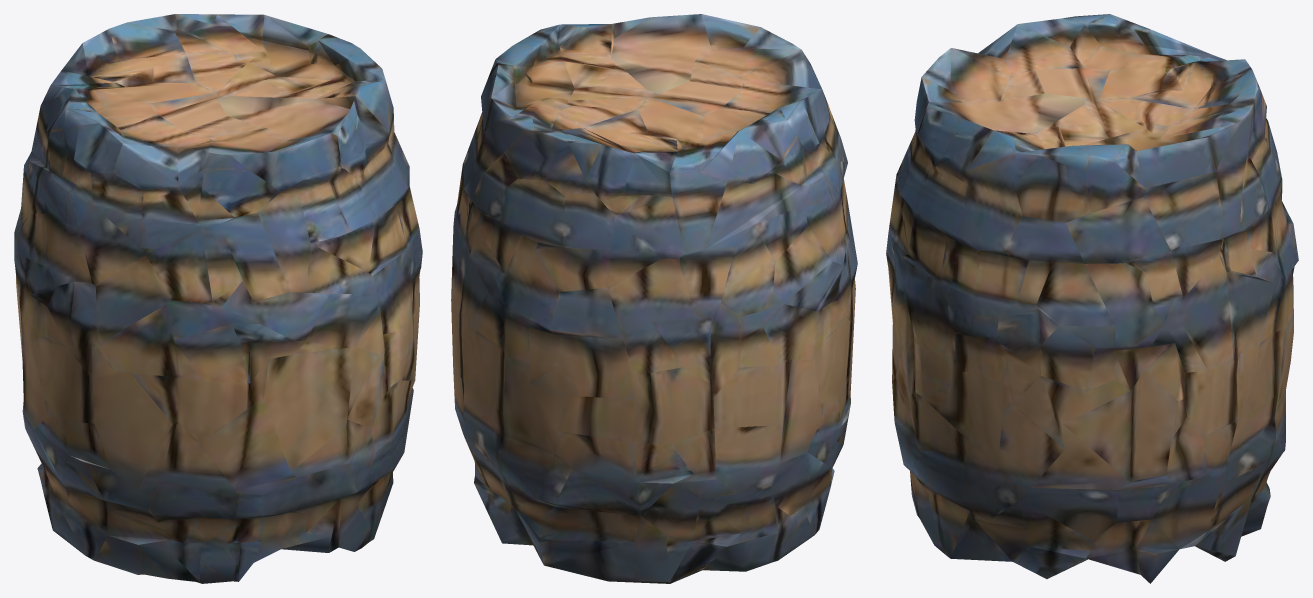
The model's file is obj_barrel.glb.
The picture shows the model from 3 angles, left to right: view 1: azimuth 30°, elevation 25°; view 2: azimuth 150°, elevation 25°; view 3: azimuth 270°, elevation 25°; orthographic projection.
Visible parts, largest first — view 1: Wooden_barrel; view 2: Wooden_barrel; view 3: Wooden_barrel.
Boxes of the visible parts, <box> form: Wooden_barrel: <box>14,14,422,583</box>; Wooden_barrel: <box>451,14,857,583</box>; Wooden_barrel: <box>886,14,1298,583</box>.
Size of the model in its own units: 1.71 by 2 by 1.71.
1 material, 1 textured.
